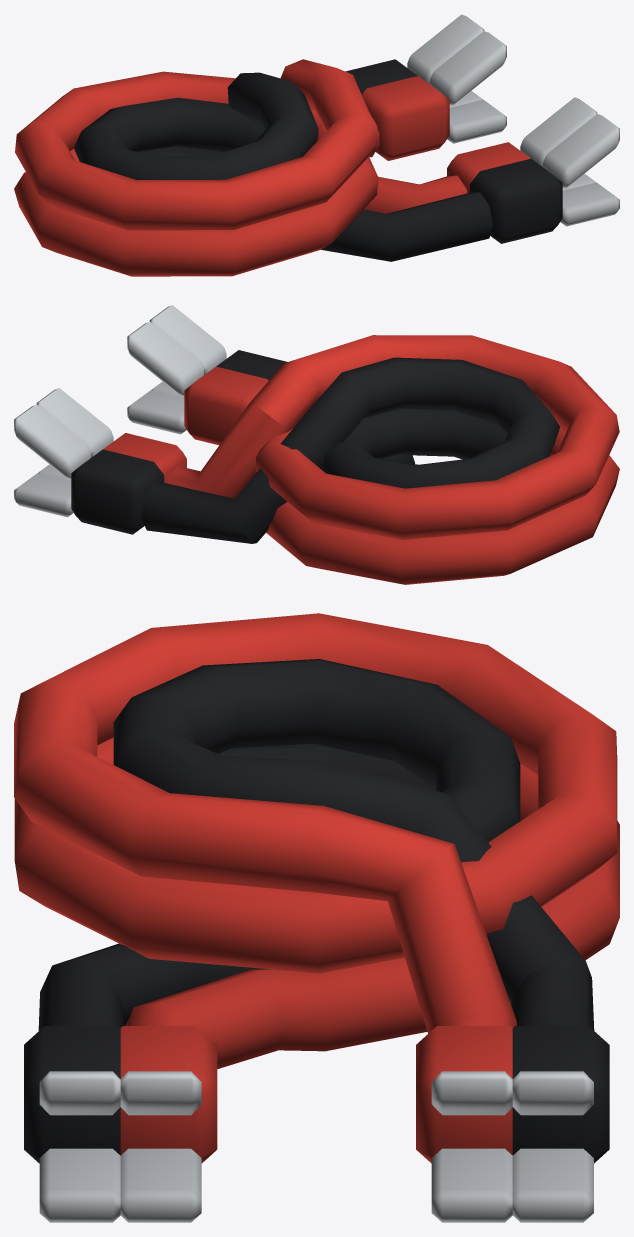
The model's file is SM_JumperCables_01.glb.
3 renders of one model, top to bottom at view 1: azimuth 30°, elevation 25°; view 2: azimuth 150°, elevation 25°; view 3: azimuth 270°, elevation 25°, orthographic. The views are drawn at different scales.
Parts seen in each view (by area): view 1: SM_JumperCables_01; view 2: SM_JumperCables_01; view 3: SM_JumperCables_01.
Part boxes in pixels (left/top/right/bottom): SM_JumperCables_01: left=14, top=14, right=619, bottom=276; SM_JumperCables_01: left=14, top=305, right=619, bottom=584; SM_JumperCables_01: left=14, top=613, right=619, bottom=1222.
Size of the model in its own units: 0.3868 by 0.1018 by 0.2318.
1 material, 1 textured.
